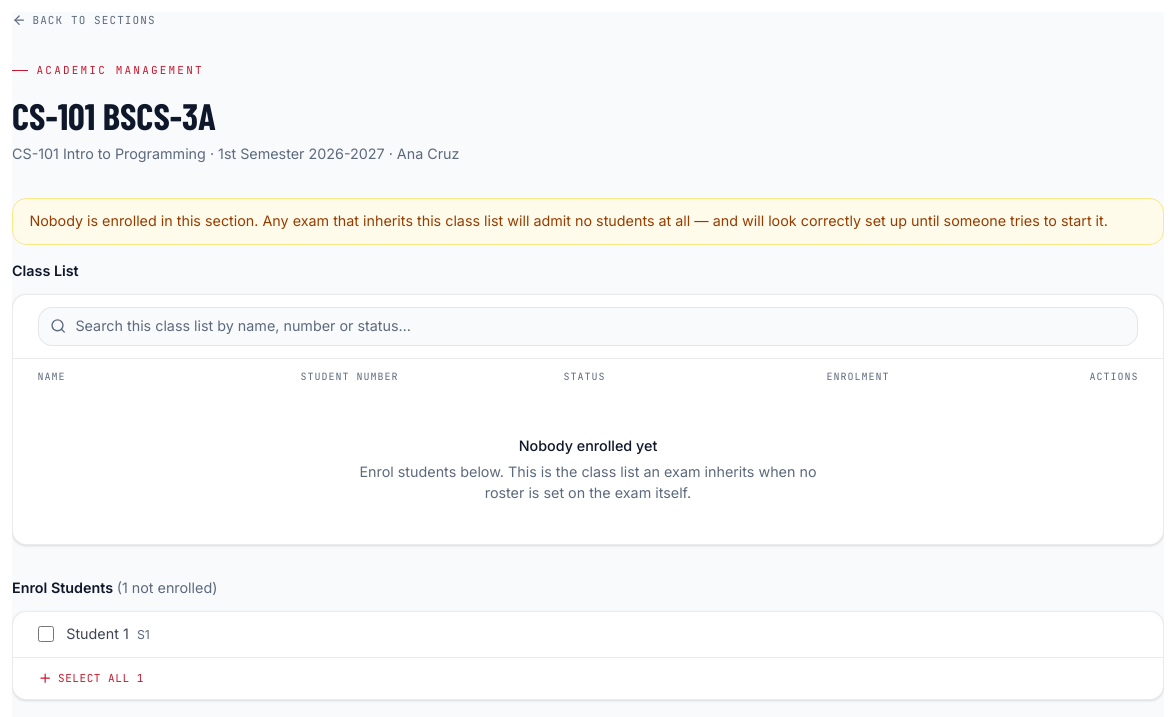
Test: Section class list › surfaces the per-student errors a partial enrolment reports
Expected: the heading "CS-101 BSCS-3A" is shown, [12,93,216,137]
Click the button "Select all 1" at (91, 678), box [38,670,144,686]
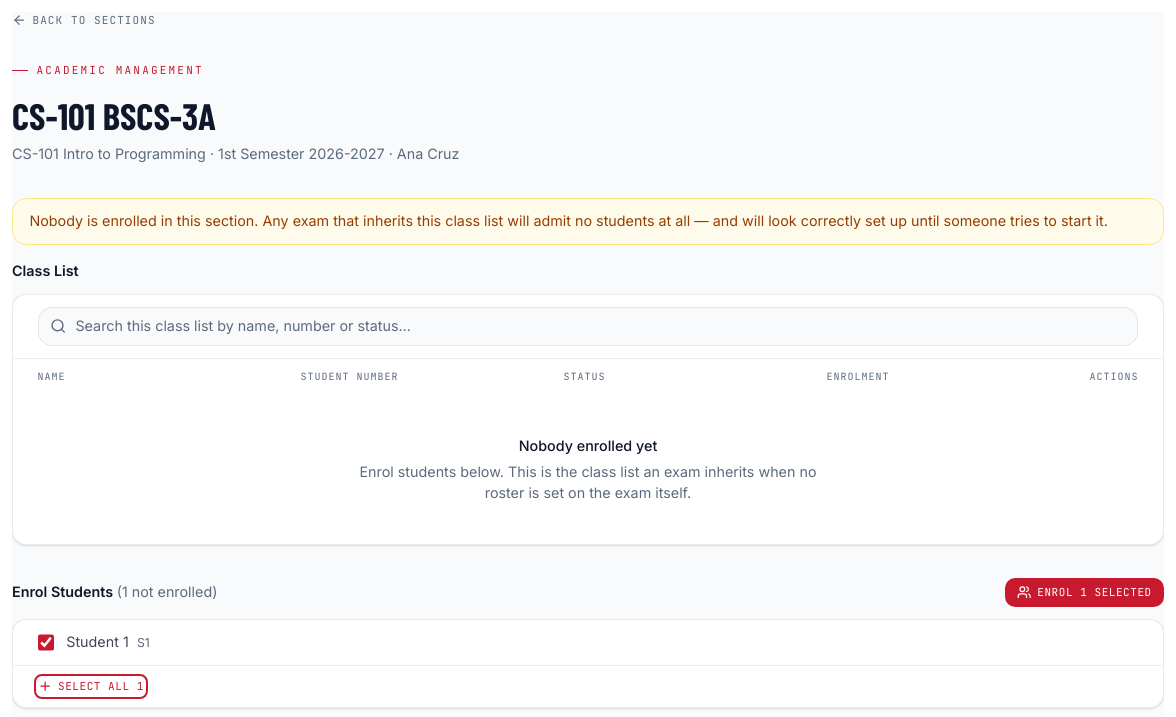
Click the button "Enrol 1 Selected" at (1084, 592), box [1005,578,1164,607]
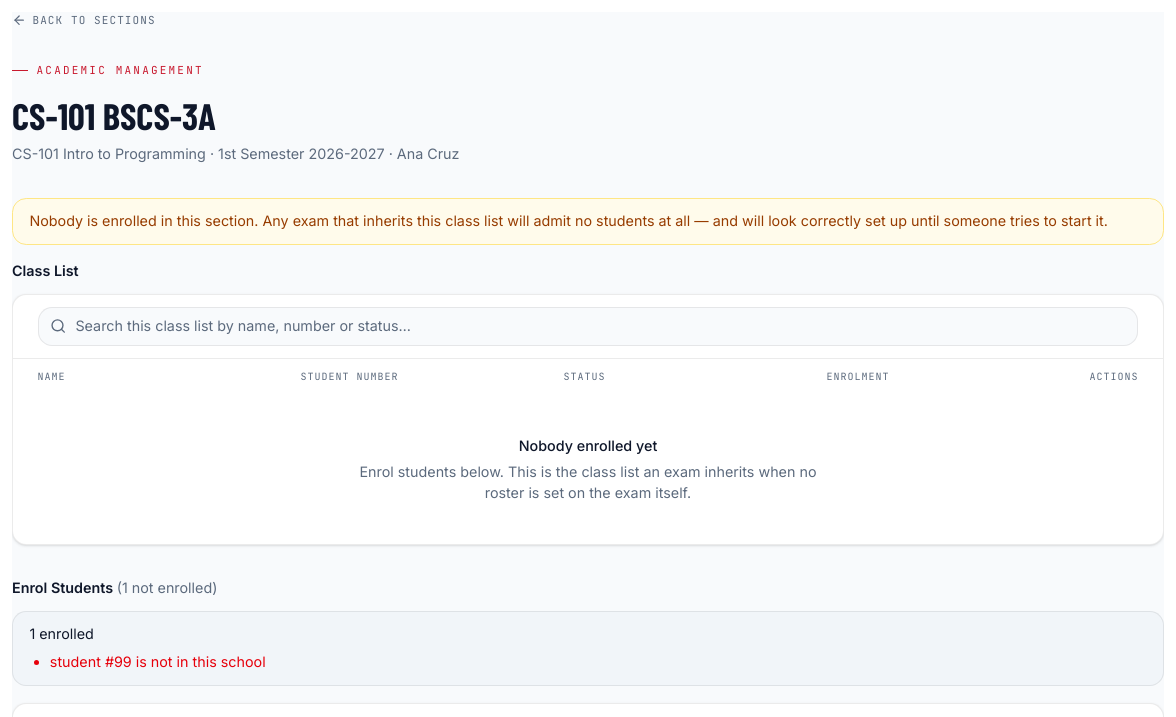
Expected: the list item "student #99 is not in this school" is shown, [50,653,266,670]
